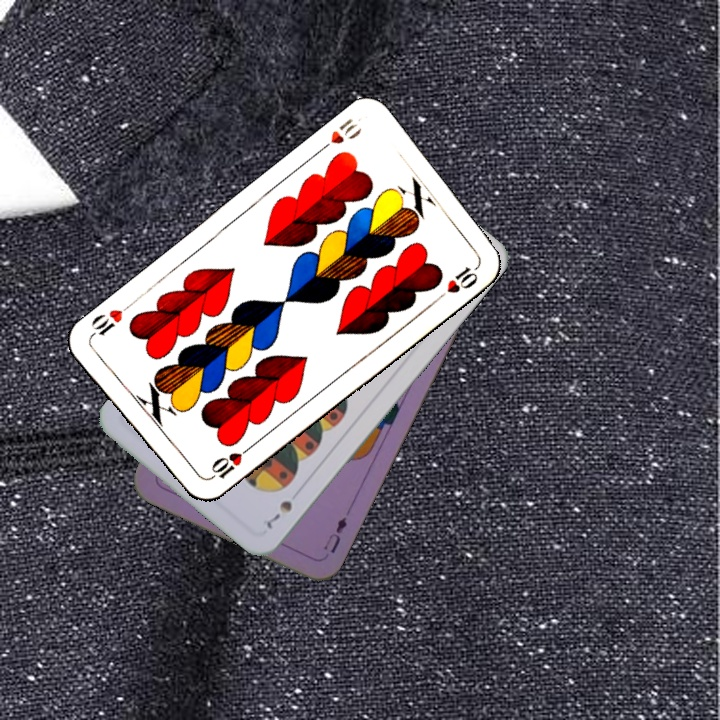EU: (319, 512, 350, 557)
H10: (314, 114, 365, 156), (203, 442, 254, 483)
S7: (262, 496, 295, 532)
